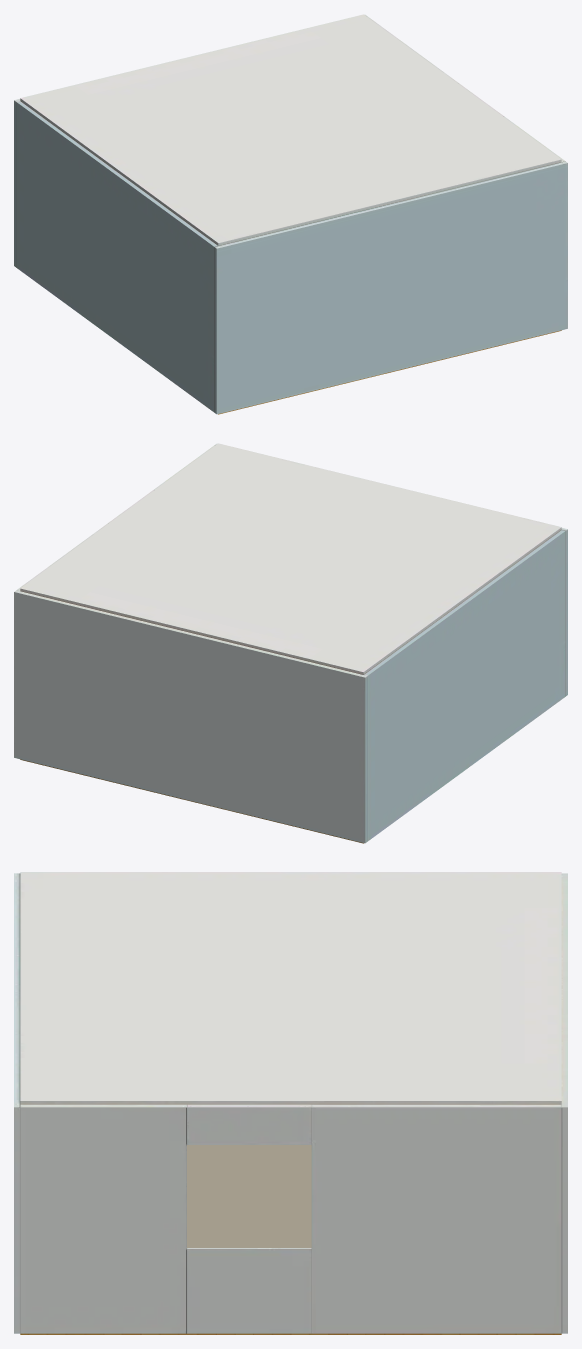
The model's file is room.glb.
3 views of the same model, one above another, from view 1: azimuth 30°, elevation 25°; view 2: azimuth 150°, elevation 25°; view 3: azimuth 270°, elevation 25° (orthographic). The views are drawn at different scales.
Parts seen in each view (by area): view 1: RoomShell; view 2: RoomShell; view 3: RoomShell, RoomGlass, RoomFloor.
Part boxes in pixels (bbox=[...]): RoomShell: bbox=[14, 14, 567, 414]; RoomShell: bbox=[14, 443, 567, 843]; RoomShell: bbox=[14, 872, 567, 1333]; RoomGlass: bbox=[187, 1145, 311, 1247]; RoomFloor: bbox=[20, 1333, 561, 1334].
Bounding box in the file's own units: 26.6 × 12.4 × 26.6.
Materials: 7 (6 with a texture image).
